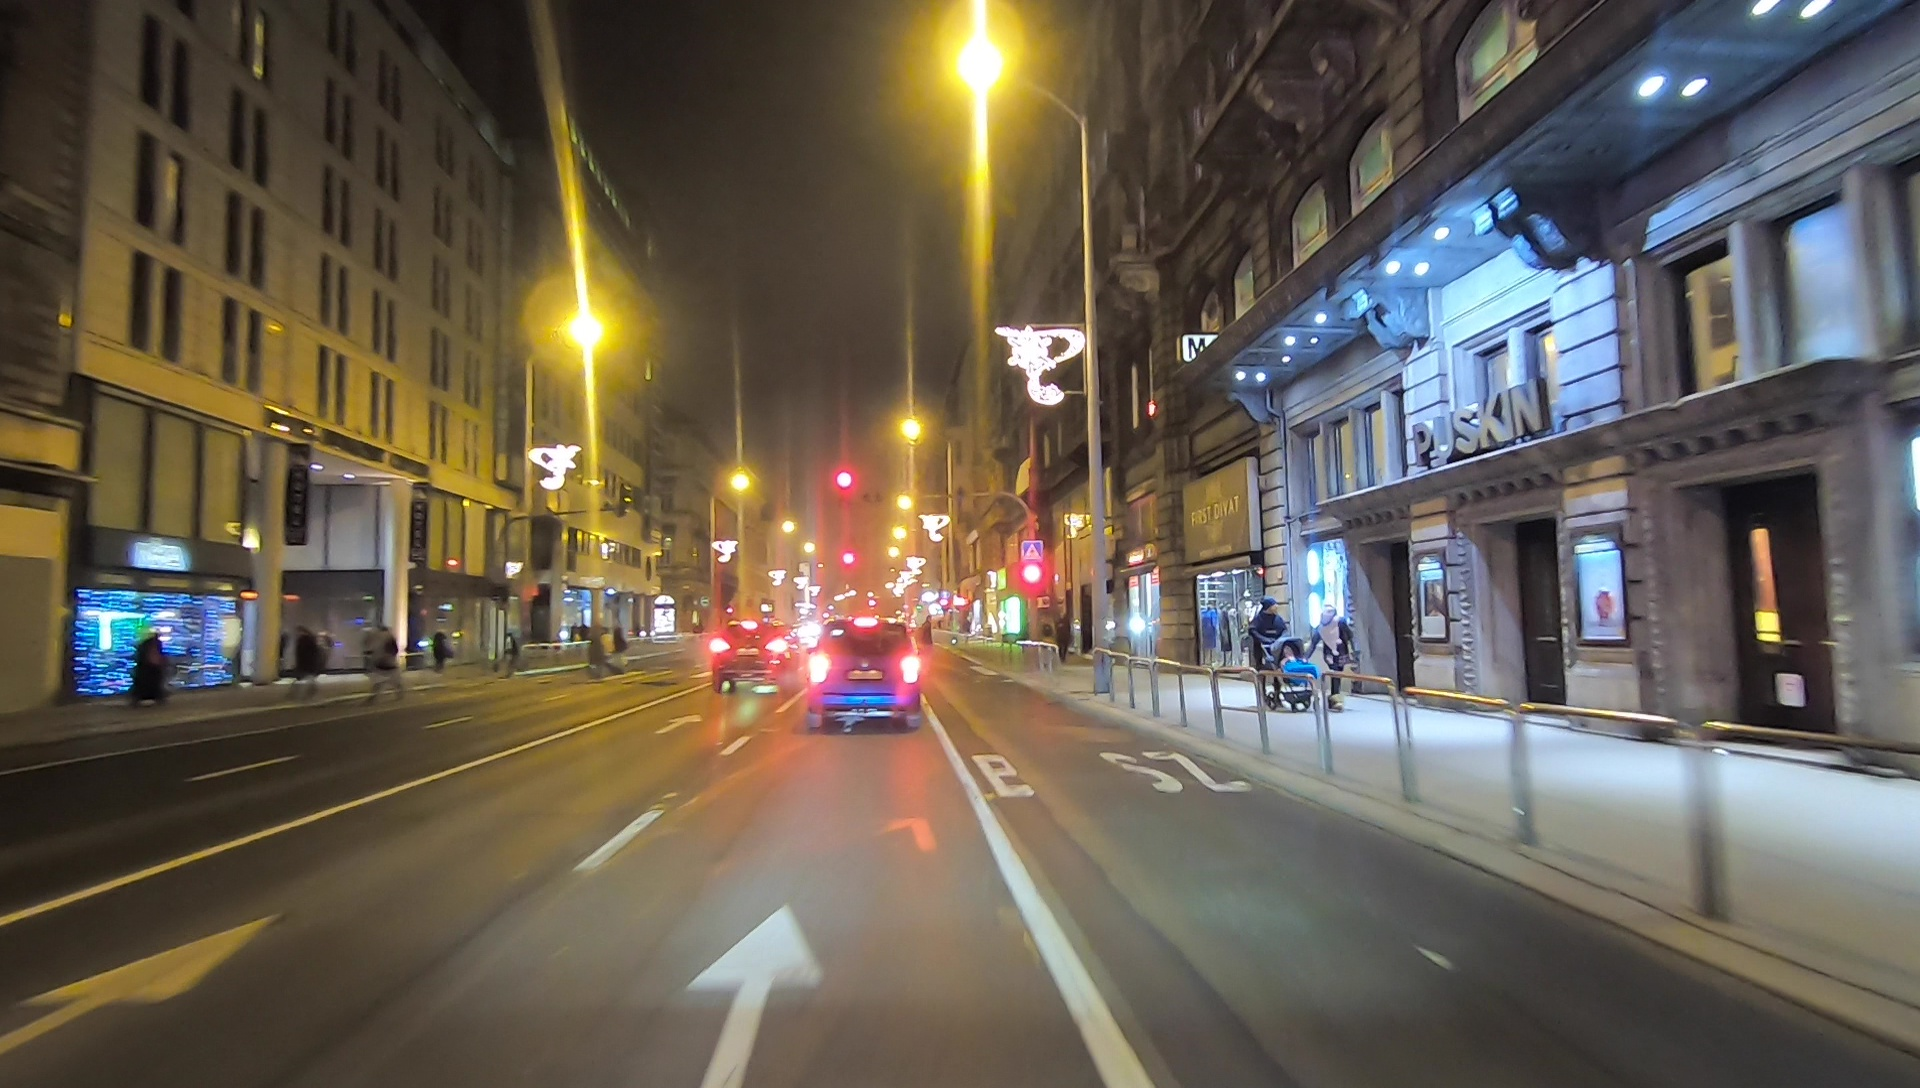person: (1245, 597, 1316, 710), (1313, 605, 1355, 714), (359, 622, 406, 703), (131, 630, 178, 705), (287, 623, 331, 697), (595, 618, 614, 682), (430, 624, 450, 673), (916, 613, 934, 668), (610, 619, 626, 673), (586, 623, 600, 681), (1055, 612, 1070, 660)
